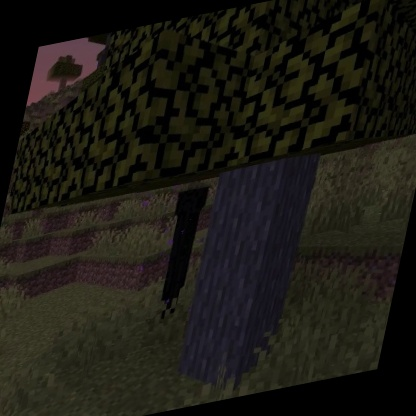enderman: (149, 183, 211, 321)
